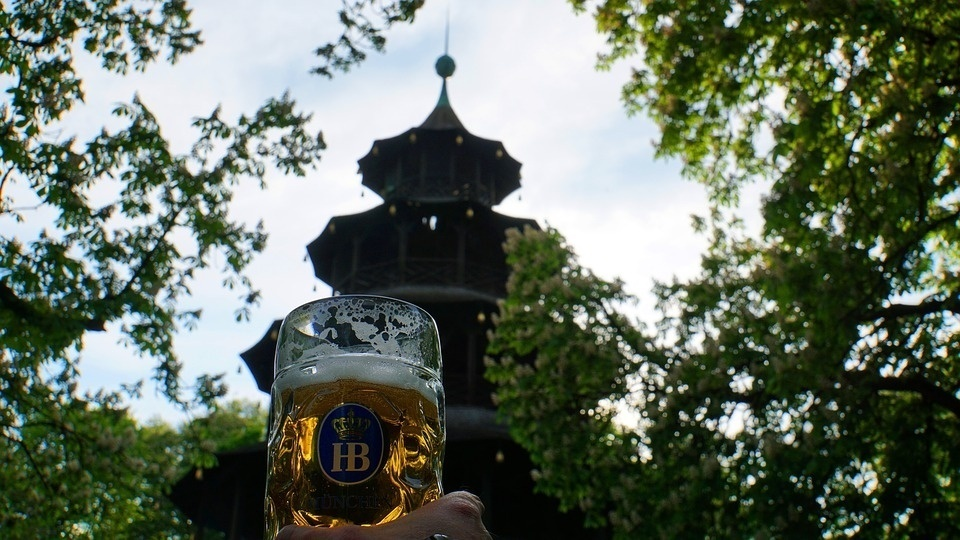whiskey: (273, 306, 451, 540)
